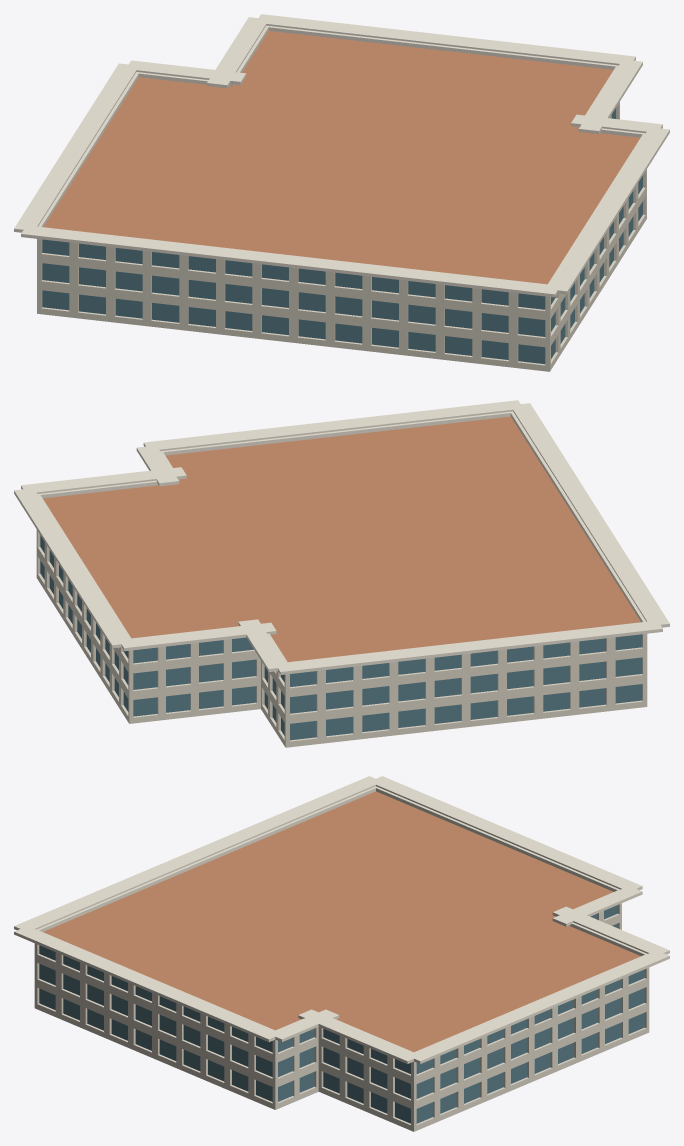
File: canteen3.far.glb
The picture shows the model from 3 angles, top to bottom: view 1: azimuth 30°, elevation 25°; view 2: azimuth 150°, elevation 25°; view 3: azimuth 270°, elevation 25°; orthographic projection. The views are drawn at different scales.
Parts seen in each view (by area): view 1: roof, trim, wall, glass; view 2: roof, trim, wall, glass; view 3: roof, wall, trim, glass.
Part boxes in pixels (left/top/right/bottom): roof: left=44, top=31, right=640, bottom=284; trim: left=14, top=14, right=669, bottom=297; wall: left=37, top=102, right=646, bottom=371; glass: left=42, top=108, right=642, bottom=364; roof: left=43, top=416, right=640, bottom=662; trim: left=14, top=400, right=669, bottom=674; wall: left=36, top=529, right=647, bottom=747; glass: left=40, top=535, right=642, bottom=740; roof: left=43, top=791, right=640, bottom=1051; wall: left=34, top=903, right=649, bottom=1131; trim: left=14, top=776, right=669, bottom=1063; glass: left=39, top=905, right=644, bottom=1123.
Bounding box in the file's own units: 74.21 × 9.63 × 72.11.
